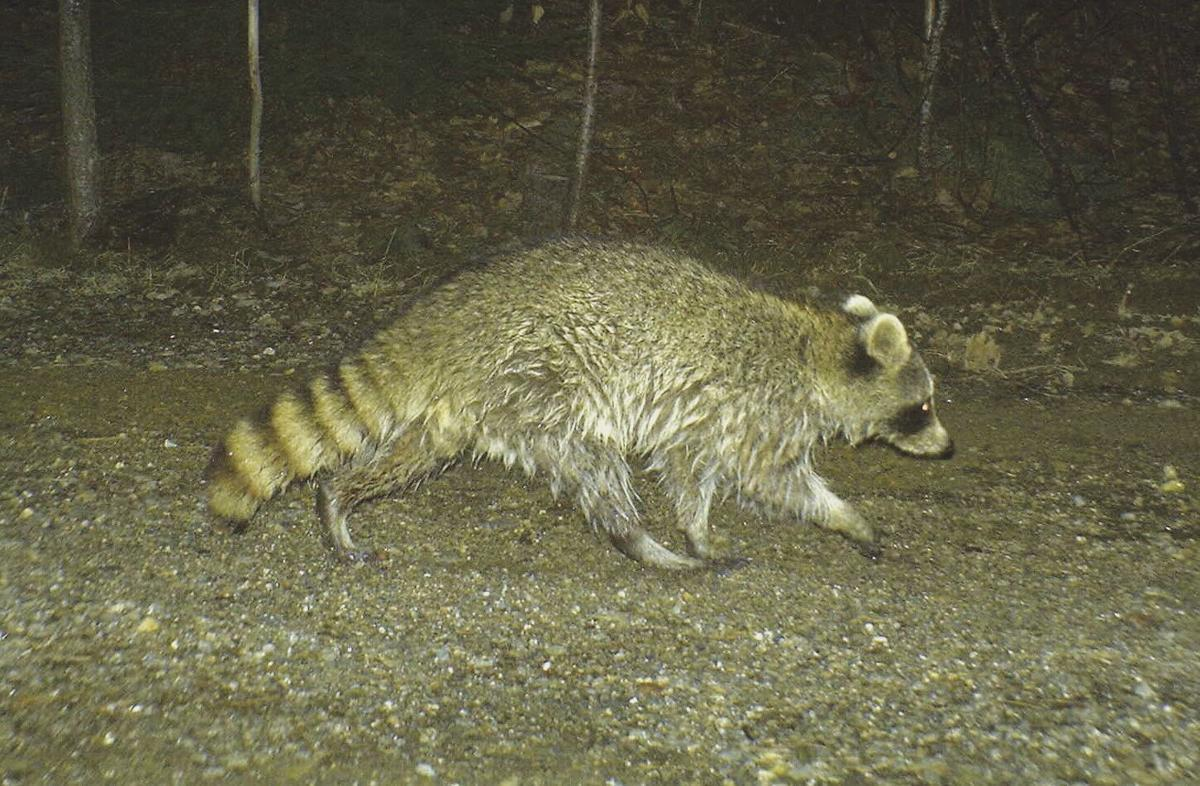raccoon: (201, 218, 977, 596)
